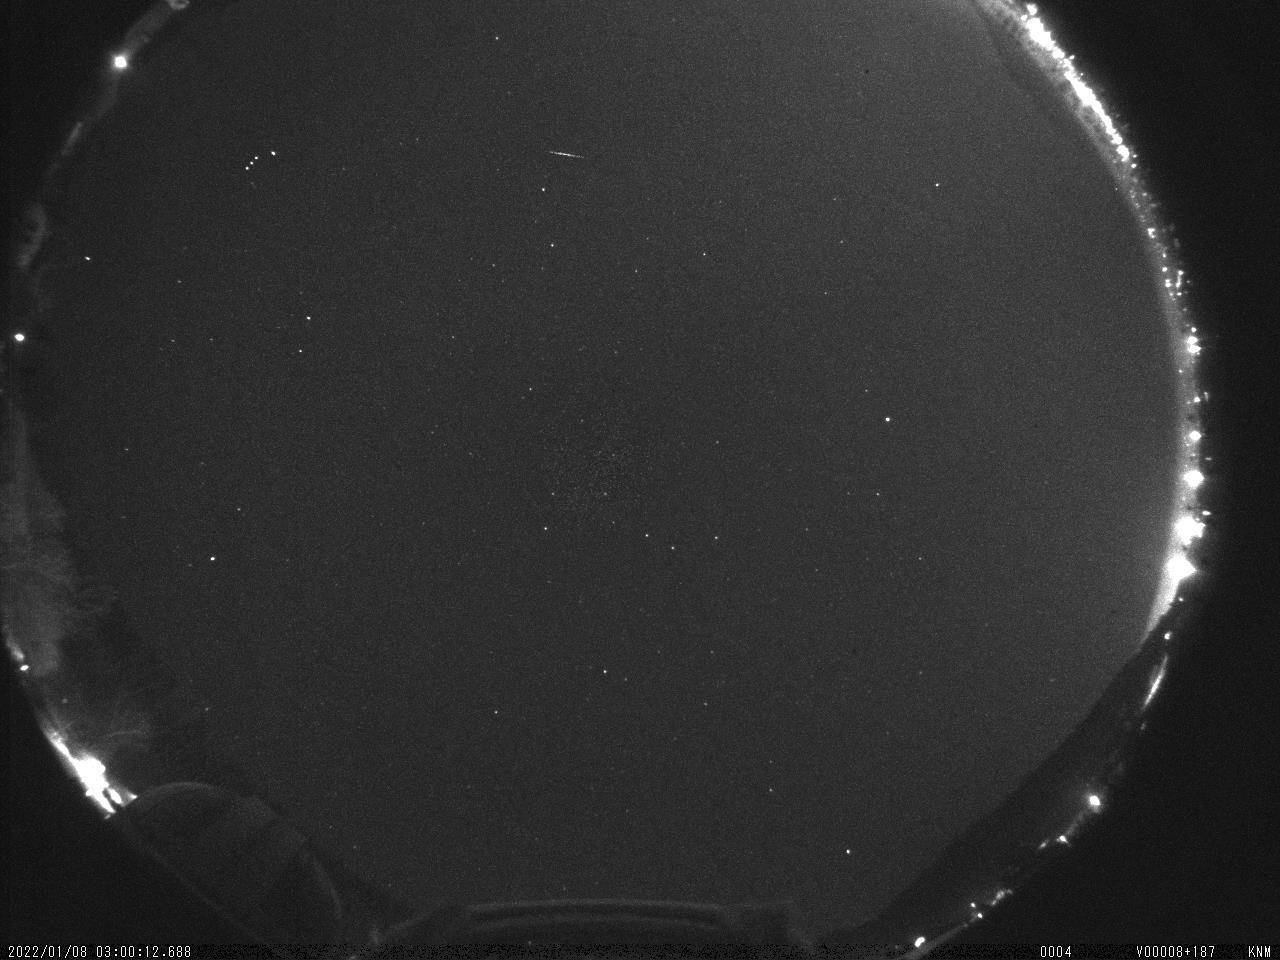Meteor: (546, 145, 587, 165)
